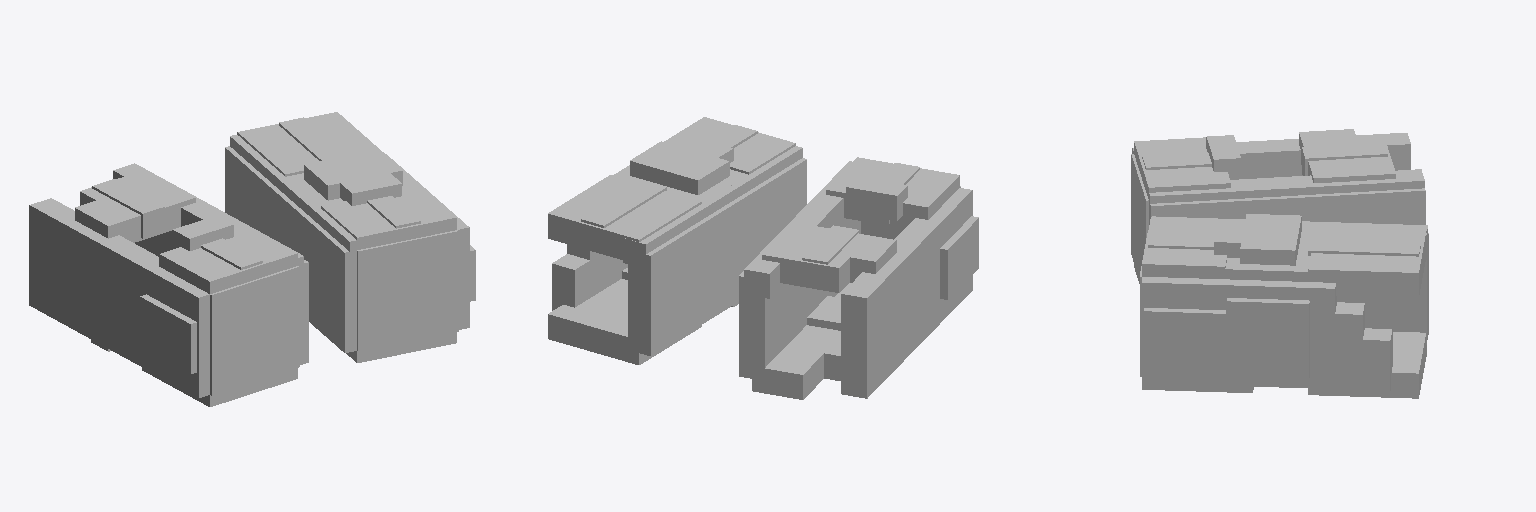
The model's file is t45_leggings_broken.obj.
The picture shows the model from 3 angles: view 1: azimuth 30°, elevation 25°; view 2: azimuth 150°, elevation 25°; view 3: azimuth 270°, elevation 25°; orthographic projection.
Parts seen in each view (by area): view 1: Legs; view 2: Legs; view 3: Legs.
Boxes of the visible parts, box(x1,y1,x2,y2) form: Legs: box(29, 112, 475, 406); Legs: box(548, 117, 978, 399); Legs: box(1131, 129, 1428, 398).
Size of the model in its own units: 0.8474 by 0.3438 by 0.6701.